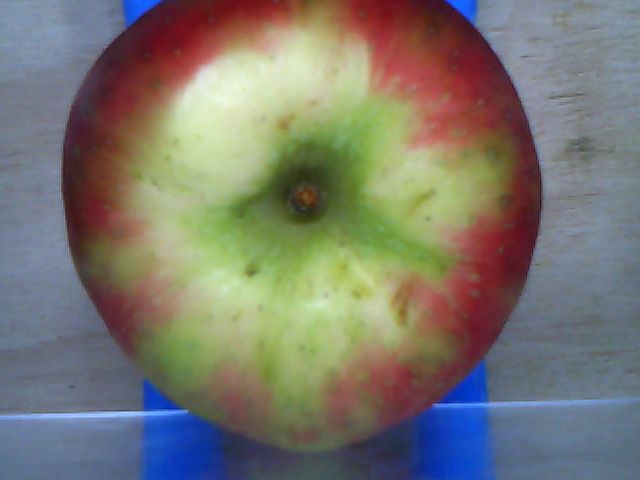stem: (290, 178, 323, 215)
